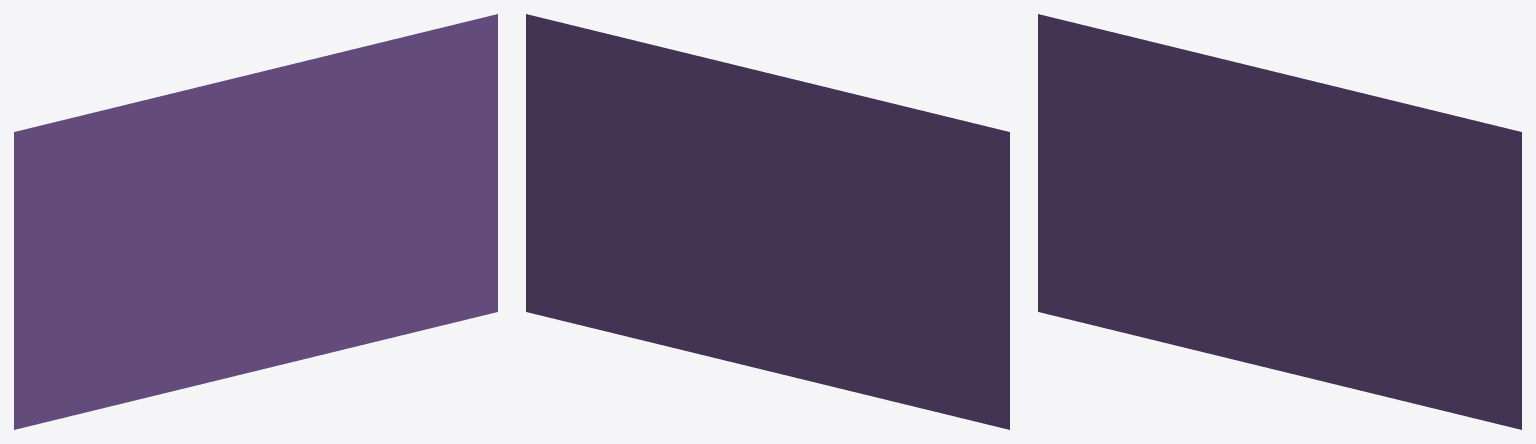
The model's file is Itr_Wall_Color_10.FBX.
3 views of the same model, side by side, from view 1: azimuth 30°, elevation 25°; view 2: azimuth 150°, elevation 25°; view 3: azimuth 330°, elevation 25° (orthographic).
Visible parts, largest first — view 1: Itr_Wall_Color_10; view 2: Itr_Wall_Color_10; view 3: Itr_Wall_Color_10.
Boxes of the visible parts, x1,y1,x2,y2 form: Itr_Wall_Color_10: (14,14,497,429); Itr_Wall_Color_10: (526,14,1009,429); Itr_Wall_Color_10: (1038,14,1521,429).
Size of the model in its own units: 118 by 69.49 by 3.05e-05.
